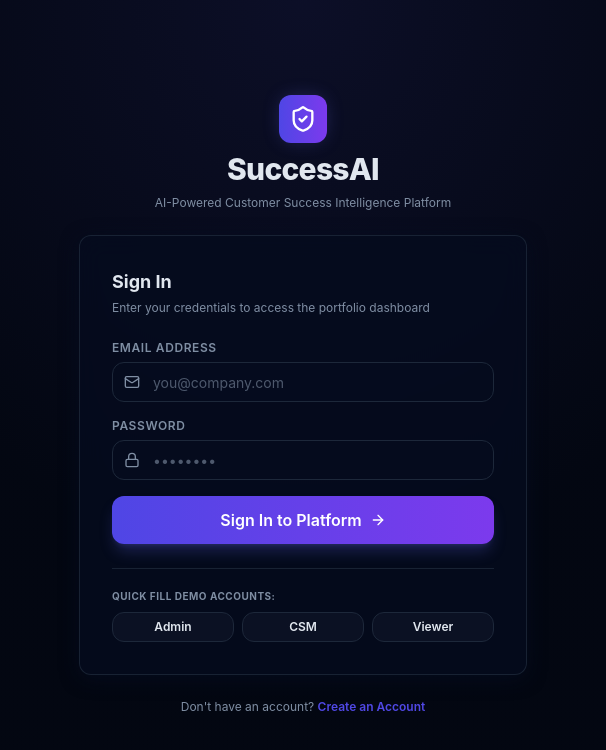
Test: Authentication Pages › displays validation errors on submitting empty login form
Click the button "Sign In to Platform".
click(303, 520)  # box [112, 496, 494, 544]
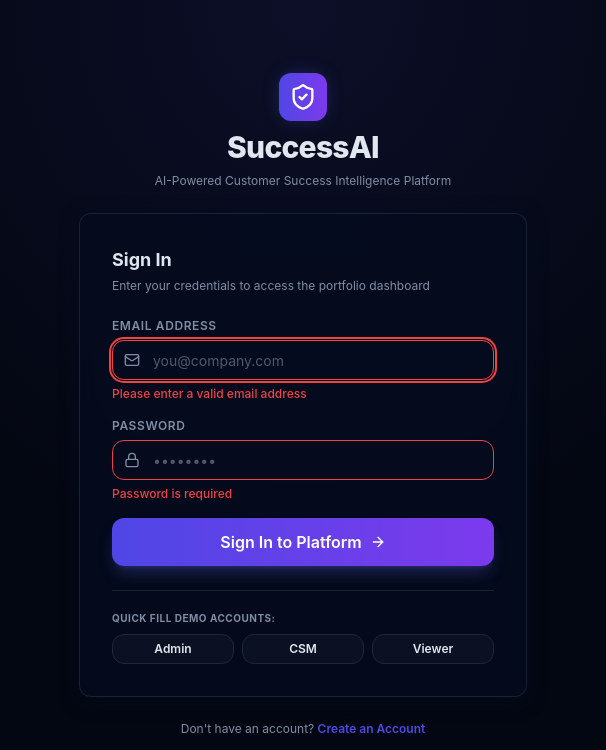
Check: the text "Please enter a valid email address" is shown, box [112, 386, 307, 401]
